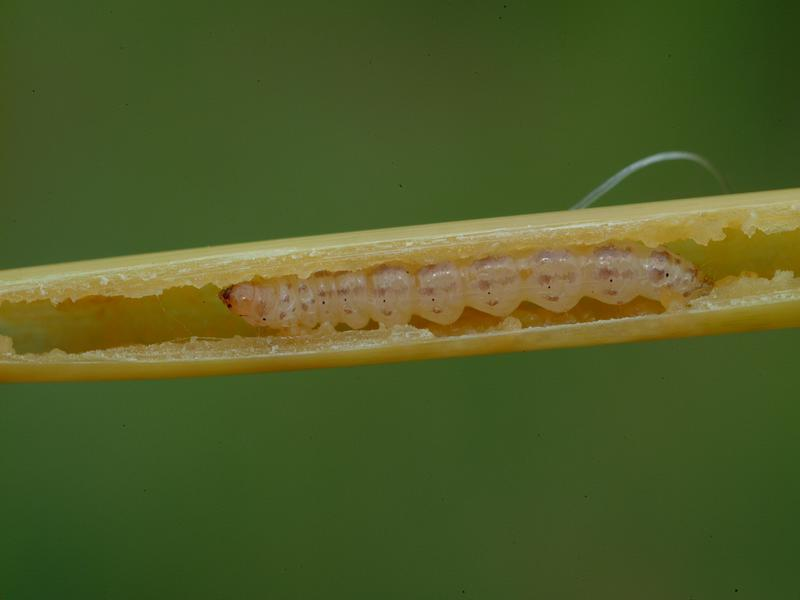Whorl_maggot: (210, 238, 706, 329)
